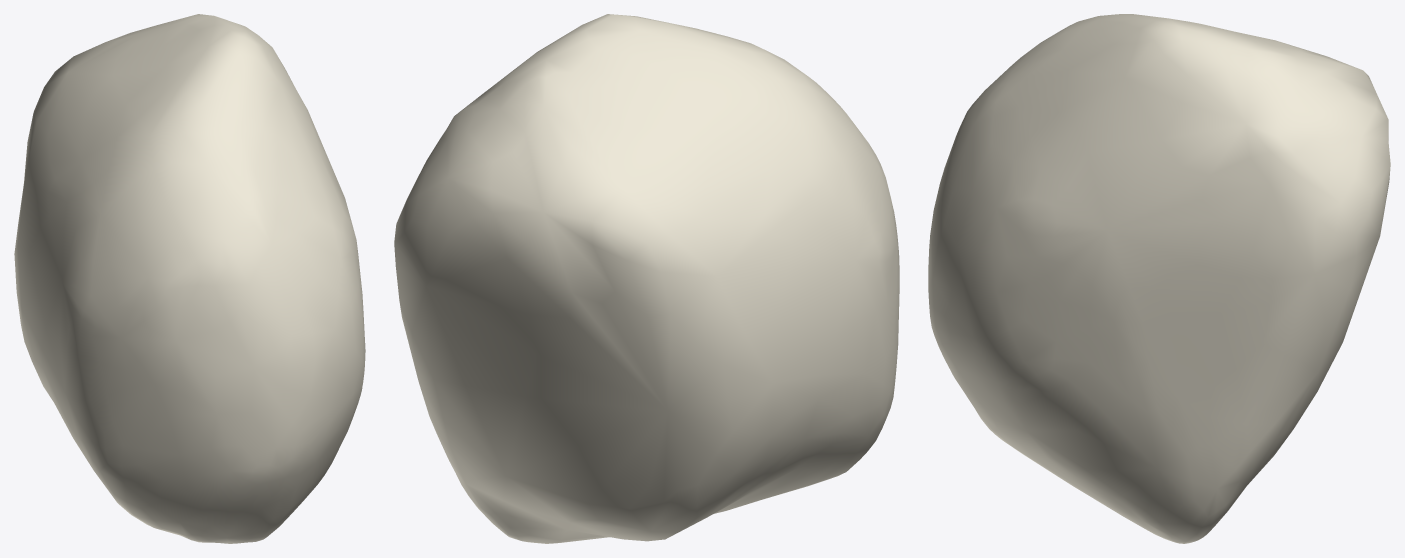
3 views of the same model, side by side, from view 1: azimuth 30°, elevation 25°; view 2: azimuth 150°, elevation 25°; view 3: azimuth 270°, elevation 25° (orthographic). The views are drawn at different scales.
Visible parts, largest first — view 1: ZA_0d7f6b6754750280; view 2: ZA_0d7f6b6754750280; view 3: ZA_0d7f6b6754750280.
Part boxes in pixels (x1,y1,x2,y2): ZA_0d7f6b6754750280: [14, 14, 365, 543]; ZA_0d7f6b6754750280: [394, 14, 899, 543]; ZA_0d7f6b6754750280: [928, 14, 1390, 543].
Size of the model in its own units: 0.00846 by 0.0121 by 0.0104.
